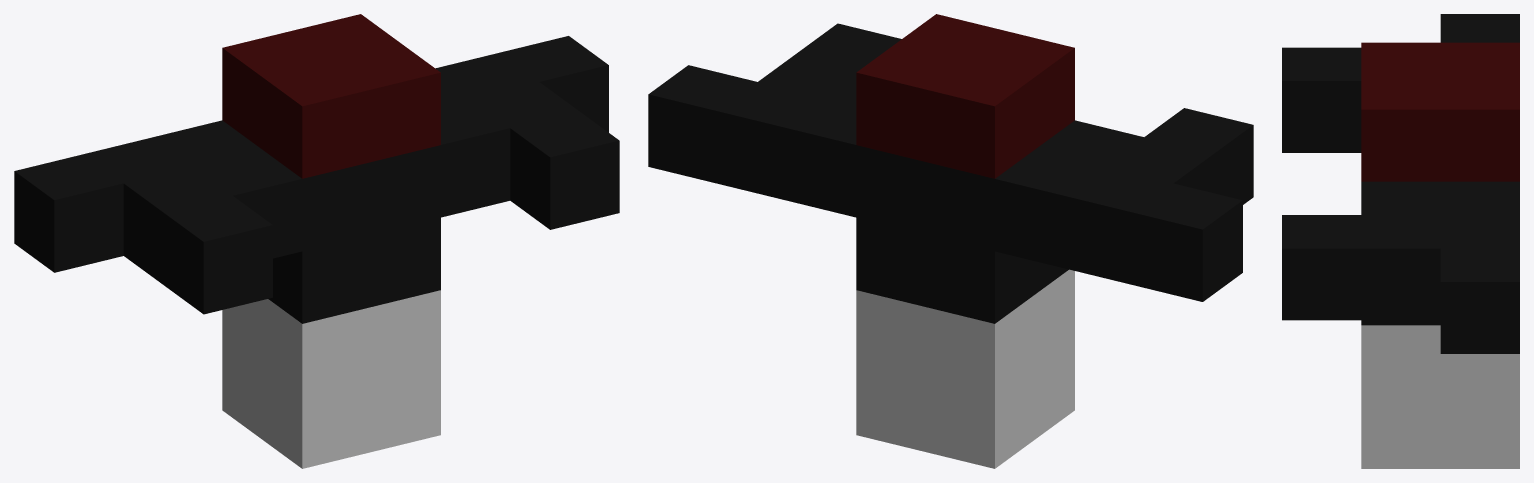
File: enem-1.glb
3 views of the same model, side by side, from view 1: azimuth 30°, elevation 25°; view 2: azimuth 150°, elevation 25°; view 3: azimuth 270°, elevation 25° (orthographic).
Parts seen in each view (by area): view 1: enem-1; view 2: enem-1; view 3: enem-1.
Boxes of the visible parts, x1,y1,x2,y2 form: enem-1: (14, 14, 619, 468); enem-1: (648, 14, 1253, 468); enem-1: (1282, 14, 1519, 468).
Size of the model in its own units: 8 by 5 by 3.
